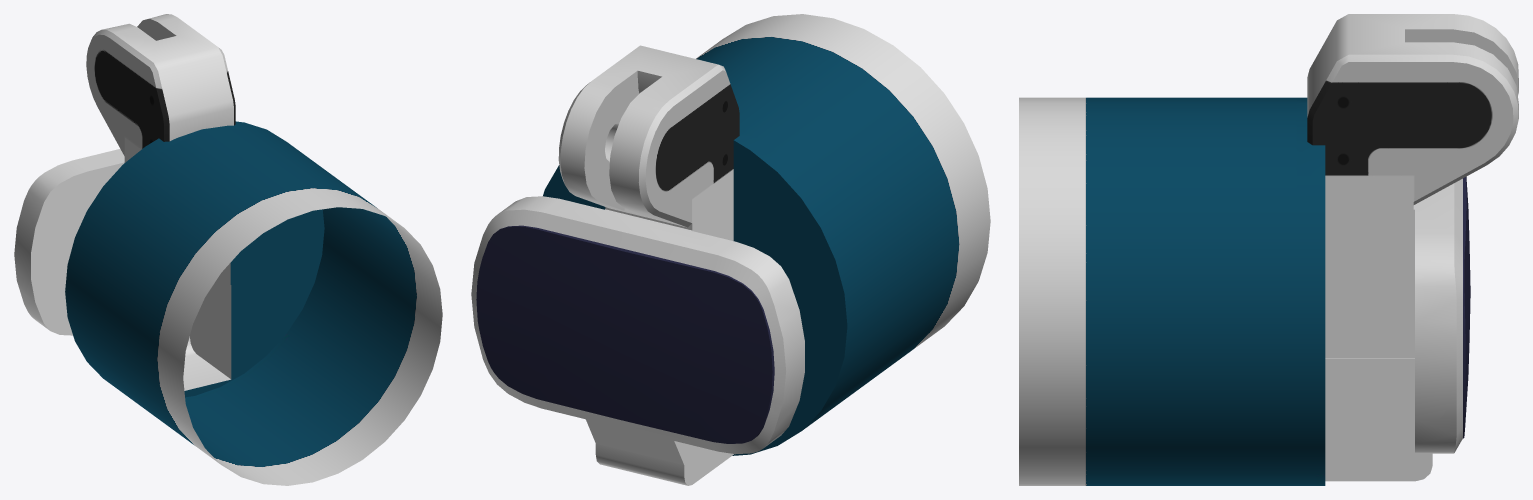
Rendered from wamLowerWristFTPalmLinkM.obj.
3 renders of one model, left to right at view 1: azimuth 30°, elevation 25°; view 2: azimuth 150°, elevation 25°; view 3: azimuth 270°, elevation 25°, orthographic. The views are drawn at different scales.
Visible parts, largest first — view 1: wamLowerWristFTPalmLinkM_wamLowerWristFTPalmLinkM.003; view 2: wamLowerWristFTPalmLinkM_wamLowerWristFTPalmLinkM.003; view 3: wamLowerWristFTPalmLinkM_wamLowerWristFTPalmLinkM.003.
Part boxes in pixels (x1,y1,x2,y2): wamLowerWristFTPalmLinkM_wamLowerWristFTPalmLinkM.003: (14, 14, 442, 485); wamLowerWristFTPalmLinkM_wamLowerWristFTPalmLinkM.003: (471, 14, 990, 485); wamLowerWristFTPalmLinkM_wamLowerWristFTPalmLinkM.003: (1019, 14, 1518, 485).
Size of the model in its own units: 0.089 by 0.1095 by 0.1144.
1 material, 1 textured.
